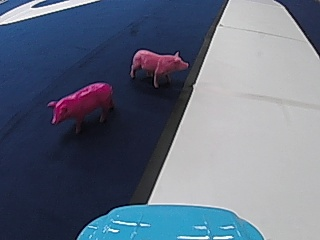pig: (46, 78, 113, 133), (127, 45, 188, 86)
